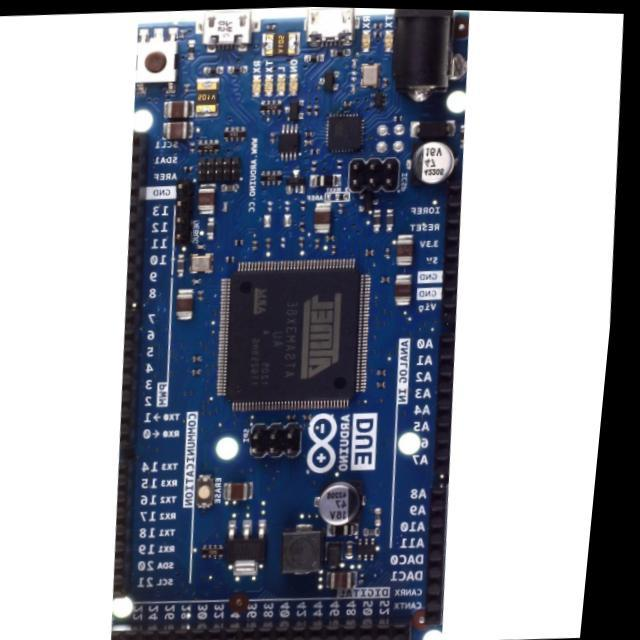Arduino-Due: (115, 11, 468, 640)
